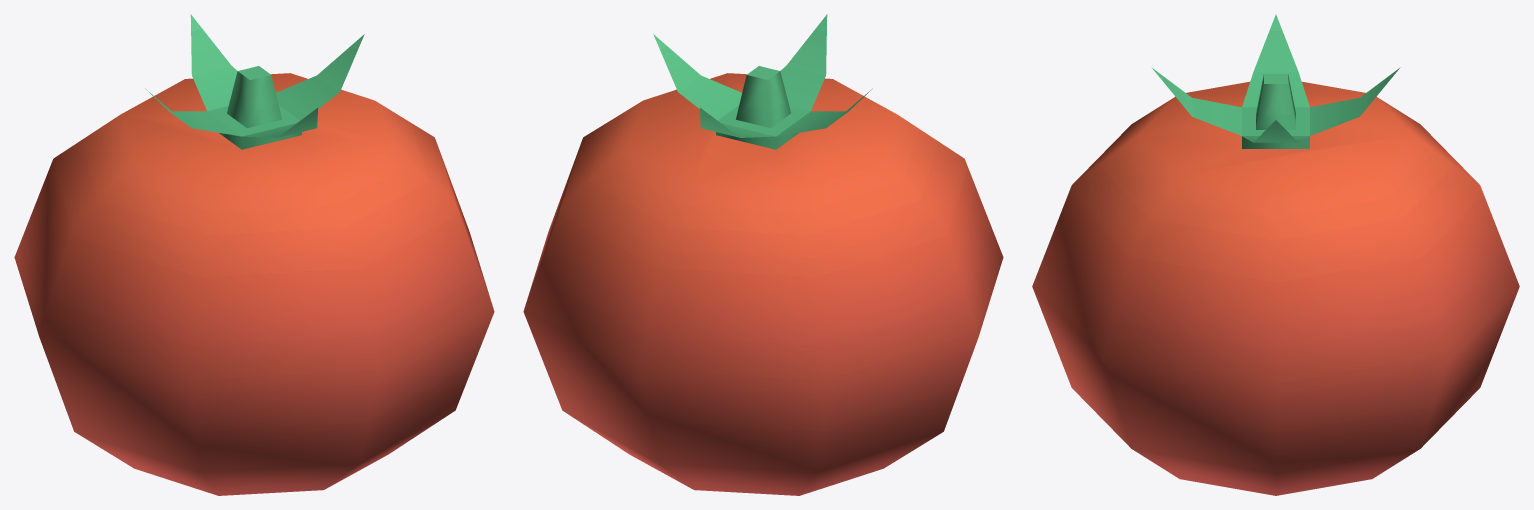
The model's file is tomato.3d0551d001.glb.
The picture shows the model from 3 angles, left to right: view 1: azimuth 30°, elevation 25°; view 2: azimuth 150°, elevation 25°; view 3: azimuth 270°, elevation 25°; orthographic projection.
Visible parts, largest first — view 1: tomato; view 2: tomato; view 3: tomato.
Boxes of the visible parts, left/top/right/bottom form: tomato: left=14, top=14, right=494, bottom=495; tomato: left=523, top=14, right=1003, bottom=495; tomato: left=1032, top=14, right=1519, bottom=495.
Size of the model in its own units: 0.1697 by 0.1427 by 0.1697.
Materials: 1 (1 with a texture image).
